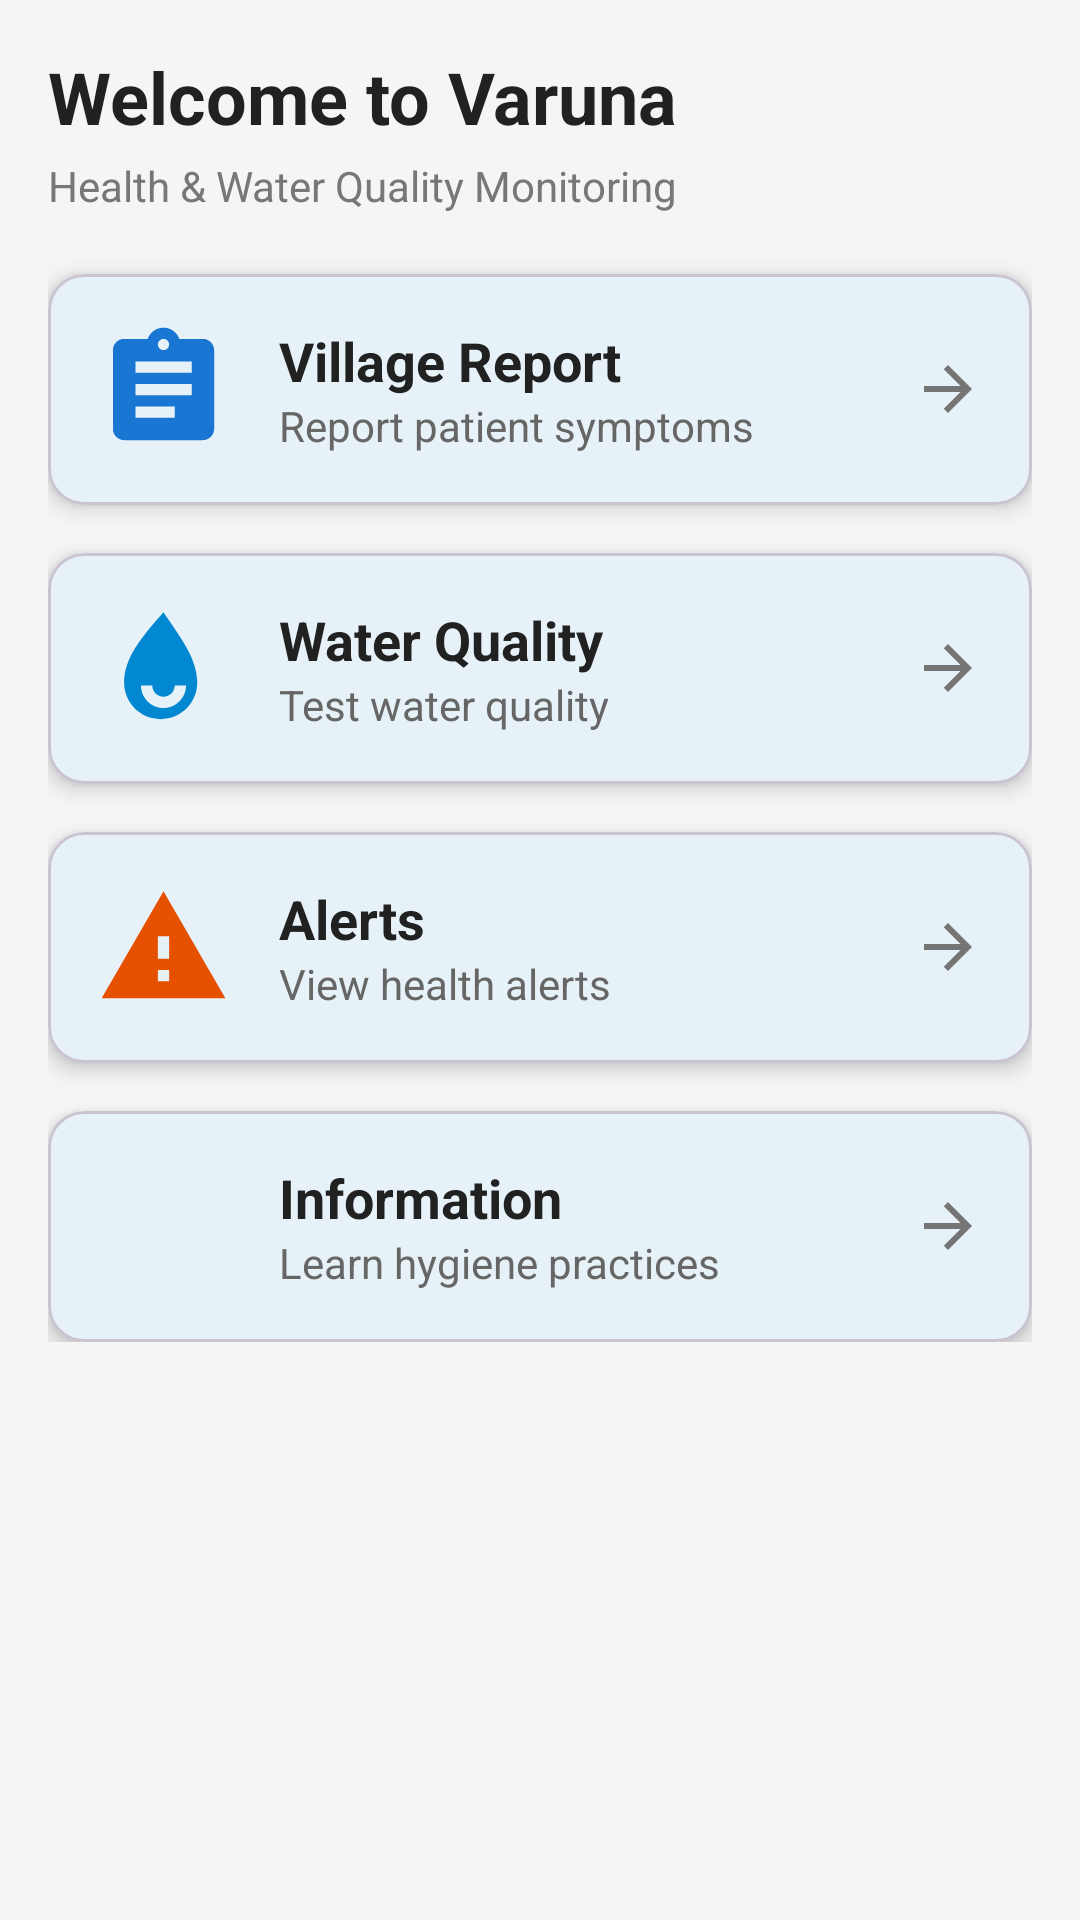

Screen size 1080w x 1920h. Icon name, then its box in pixels as (x1, y1, x2, y2):
arrow right: (924, 365, 972, 413), (924, 644, 972, 692), (924, 923, 972, 971), (924, 1202, 972, 1250)
health report: (113, 327, 215, 441)
